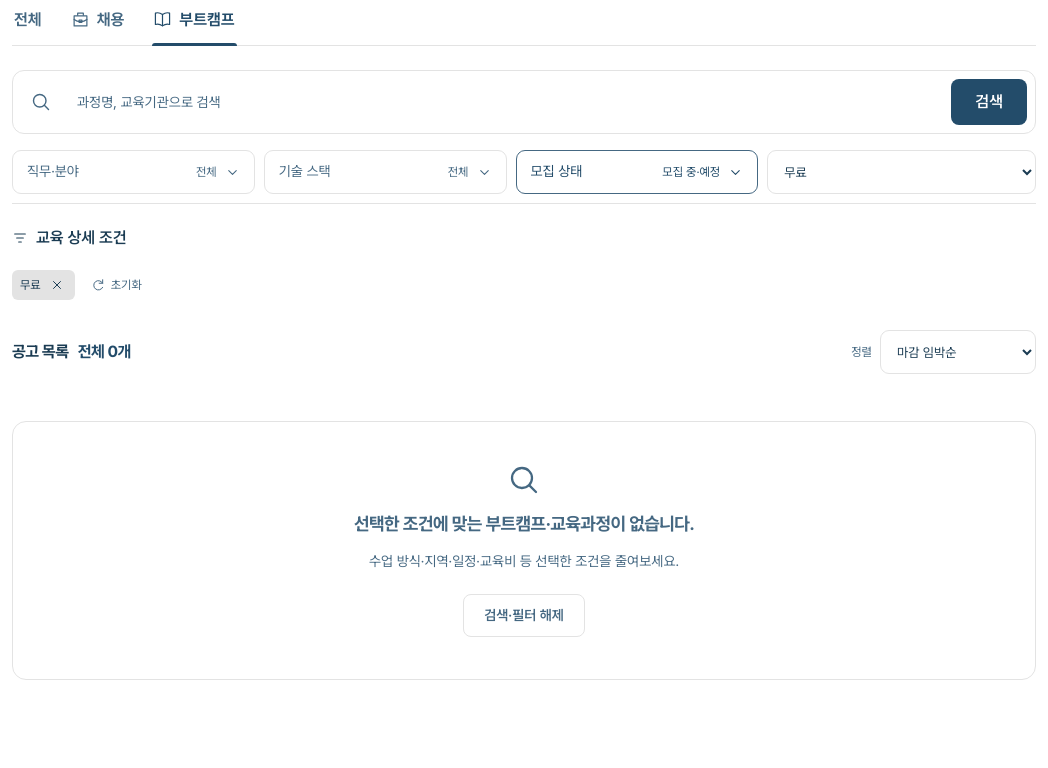
전체 초기화는 제출하지 않은 검색어도 지우고 현재 공고 종류만 유지한다
In the field named "공고 검색어": (501, 102) [63, 80, 939, 124], type "입력 중"
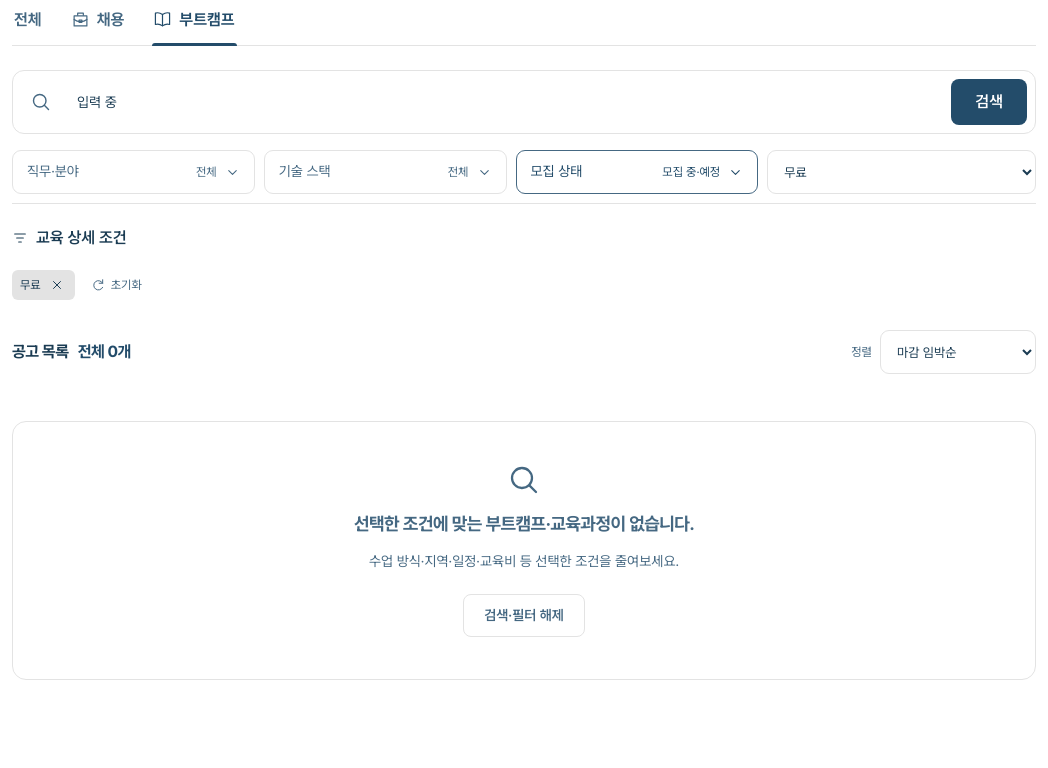
Click the button with aria-label "전체 조건 초기화": (116, 285) [83, 272, 150, 298]
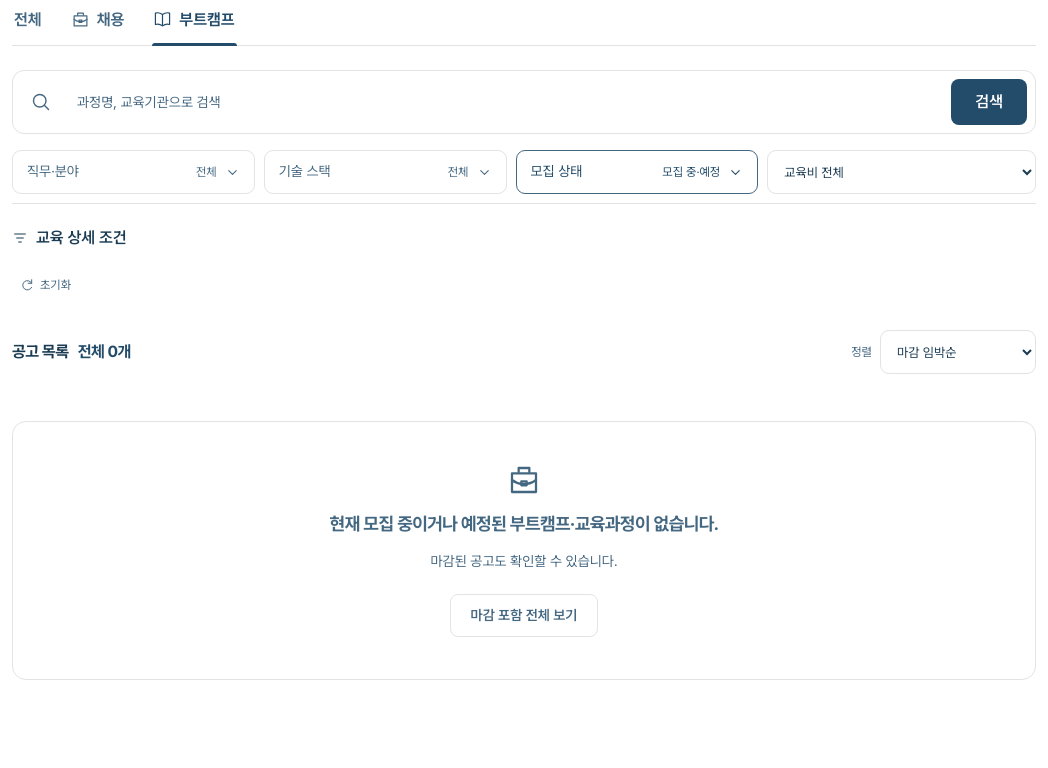
Result: the field named "공고 검색어" is empty at [63, 80, 939, 124]
